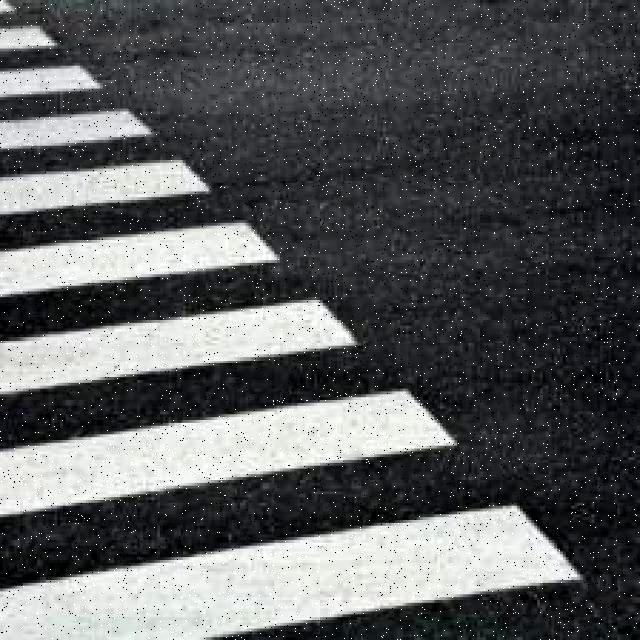crosswalk: (0, 6, 594, 639)
